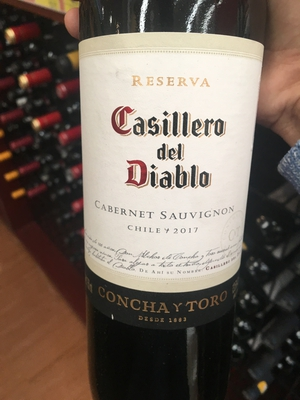casillero del diablo cabernet sauvignon: (75, 5, 269, 400)
